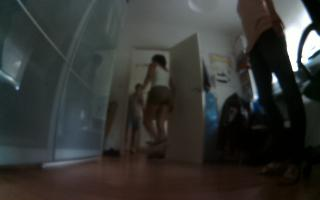person: (234, 1, 308, 181), (139, 49, 180, 162), (123, 79, 147, 158)
